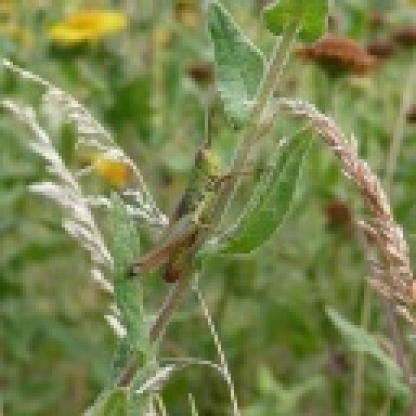grasshopper: (131, 108, 239, 298)
